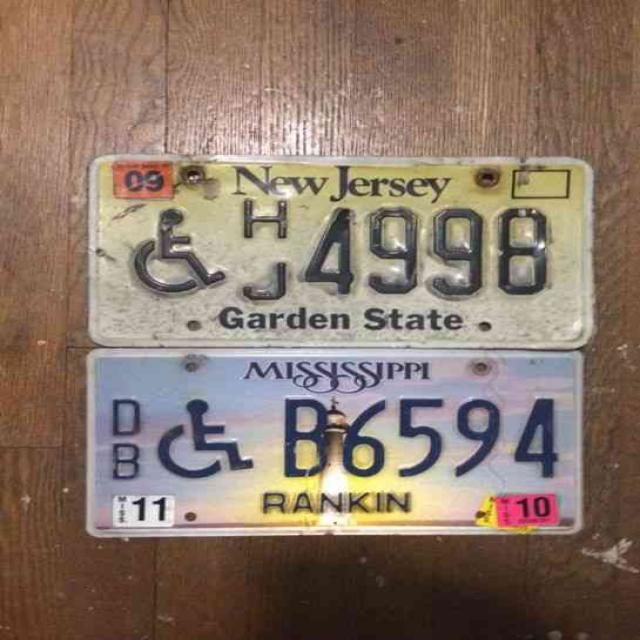symbol_of_access: (121, 204, 243, 307), (149, 393, 260, 484)
